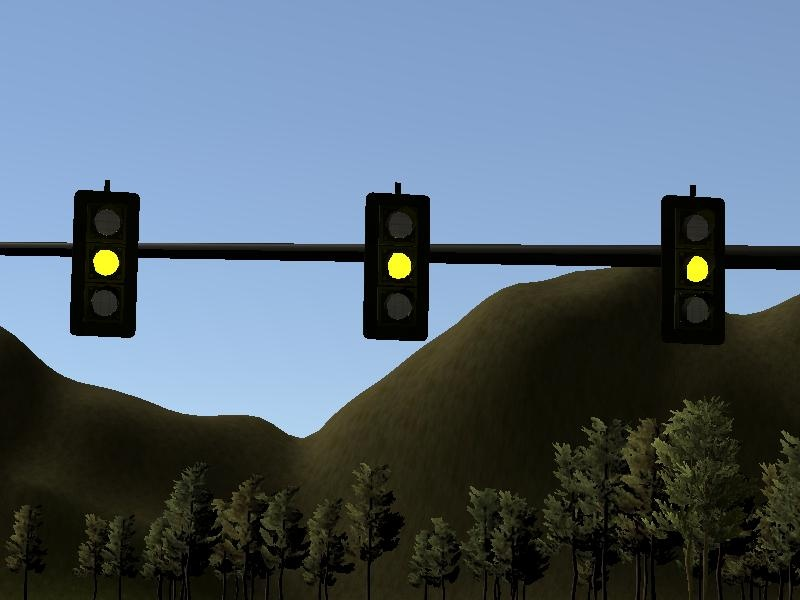yellow: (64, 174, 145, 347), (653, 175, 733, 348), (358, 180, 436, 346)
